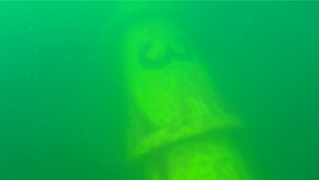3: (138, 38, 194, 69)
pipe: (109, 1, 254, 179)
